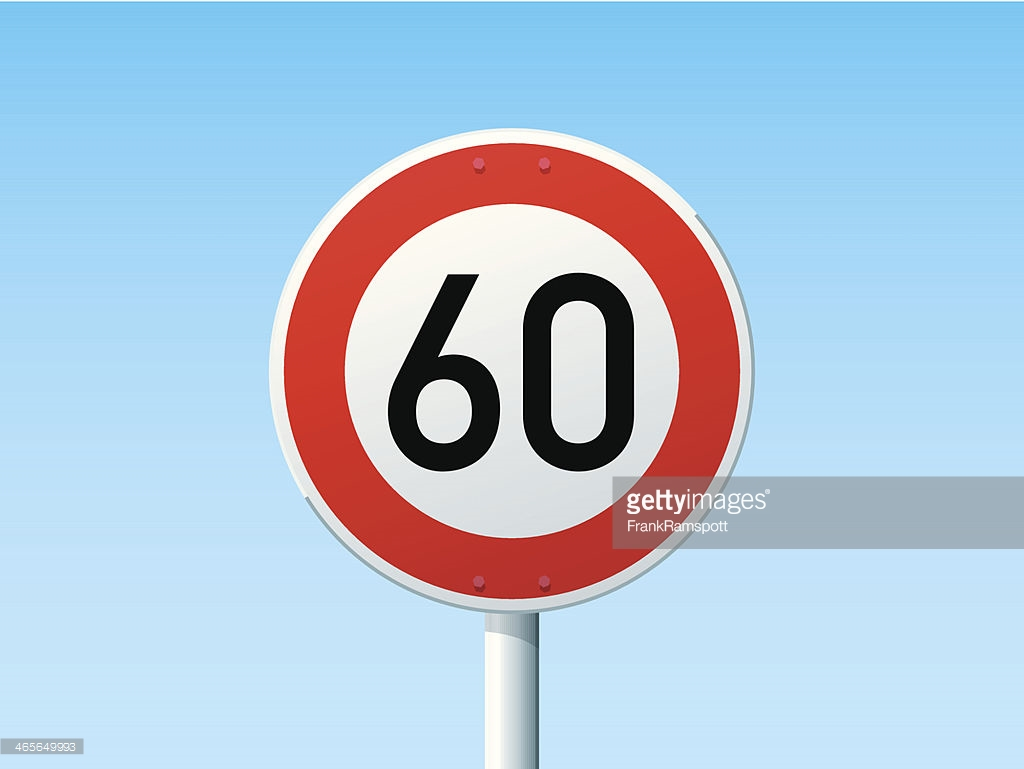Speed_limit_60km: (263, 129, 759, 610)
